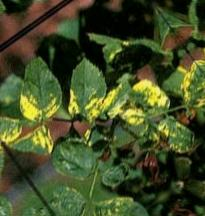Tomato leaf mosaic virus: (1, 51, 70, 125), (46, 53, 115, 123), (44, 129, 103, 189), (150, 104, 204, 160), (43, 174, 95, 216), (87, 179, 146, 216), (94, 155, 134, 191)
